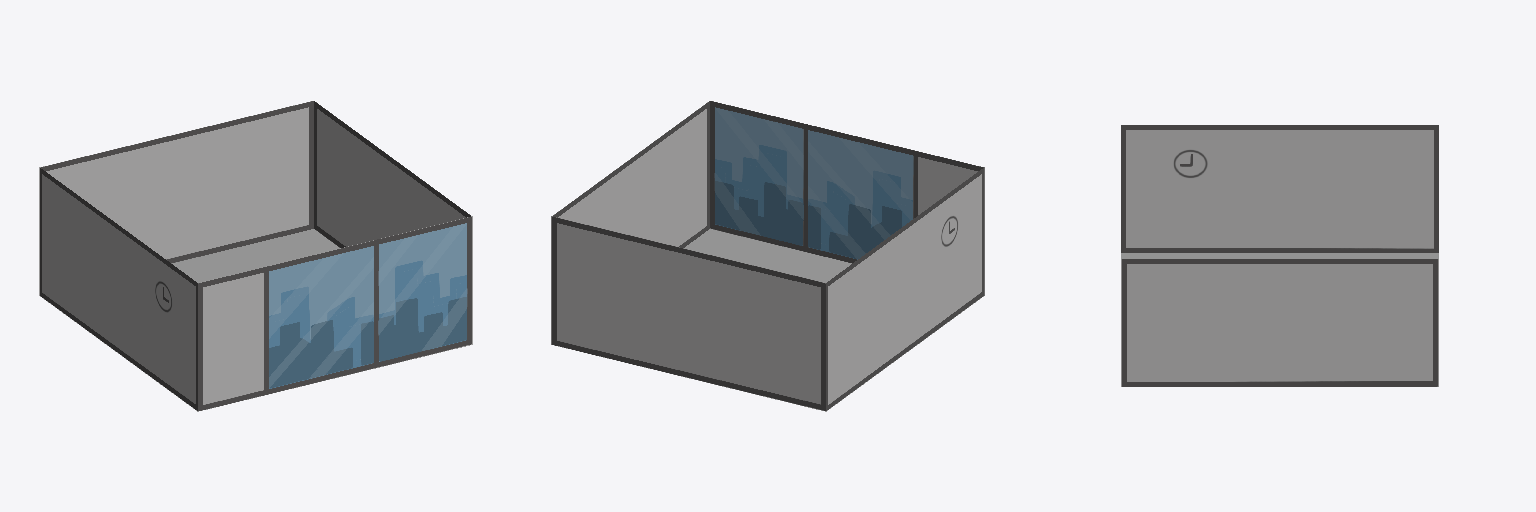
3 renders of one model, left to right at view 1: azimuth 30°, elevation 25°; view 2: azimuth 150°, elevation 25°; view 3: azimuth 270°, elevation 25°, orthographic.
Visible parts, largest first — view 1: group7 group6 group5 group4 pasted__pPlane2 group8, group7 group6 group5 group4 group8 pasted__pPlane1, group7 group6 group5 group4 group8 pasted__pasted__pPlane2, group7 group6 group5 group4 group8 pasted__pasted__pasted__pPlan, pPlane1 group7 group6 group5 group4; view 2: group7 group6 group5 group4 group8 pasted__pPlane1, group7 group6 group5 group4 pasted__pPlane2 group8, group7 group6 group5 group4 group8 pasted__pasted__pPlane2, group7 group6 group5 group4 group8 pasted__pasted__pasted__pPlan, pPlane1 group7 group6 group5 group4; view 3: group7 group6 group5 group4 group8 pasted__pasted__pasted__pPlan, group7 group6 group5 group4 group8 pasted__pasted__pPlane2, pPlane1 group7 group6 group5 group4.
Part boxes in pixels (x1,y1,x2,y2): group7 group6 group5 group4 pasted__pPlane2 group8: (198, 216, 472, 410); group7 group6 group5 group4 group8 pasted__pPlane1: (39, 101, 313, 295); group7 group6 group5 group4 group8 pasted__pasted__pPlane2: (40, 168, 197, 410); group7 group6 group5 group4 group8 pasted__pasted__pasted__pPlan: (314, 101, 470, 247); pPlane1 group7 group6 group5 group4: (40, 229, 469, 411); group7 group6 group5 group4 group8 pasted__pPlane1: (551, 216, 825, 410); group7 group6 group5 group4 pasted__pPlane2 group8: (710, 101, 984, 295); group7 group6 group5 group4 group8 pasted__pasted__pPlane2: (826, 168, 983, 410); group7 group6 group5 group4 group8 pasted__pasted__pasted__pPlan: (553, 101, 709, 247); pPlane1 group7 group6 group5 group4: (554, 229, 983, 411); group7 group6 group5 group4 group8 pasted__pasted__pasted__pPlan: (1121, 259, 1438, 386); group7 group6 group5 group4 group8 pasted__pasted__pPlane2: (1121, 125, 1438, 252); pPlane1 group7 group6 group5 group4: (1121, 253, 1438, 258).
Bounding box in the file's own units: 7.84 × 3.49 × 7.84.
4 materials, 4 textured.